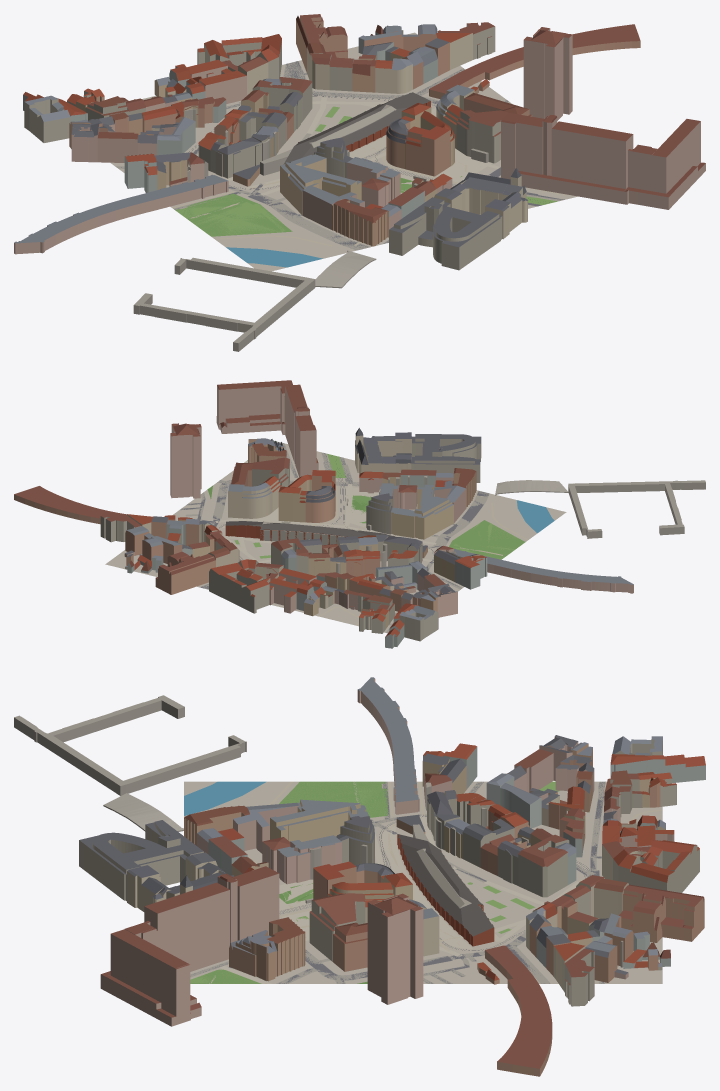
The model's file is mitte.glb.
The picture shows the model from 3 angles, top to bottom: view 1: azimuth 30°, elevation 25°; view 2: azimuth 150°, elevation 25°; view 3: azimuth 270°, elevation 25°; orthographic projection. The views are drawn at different scales.
Visible parts, largest first — view 1: buildings, ground, layer_green, layer_path, layer_curb, layer_road, layer_water; view 2: buildings, ground, layer_green, layer_path, layer_curb, layer_road, layer_water; view 3: buildings, ground, layer_path, layer_green, layer_curb, layer_road, layer_water.
Boxes of the visible parts, box(x1,y1,x2,y2) form: buildings: box(14, 14, 705, 351); ground: box(110, 32, 576, 271); layer_green: box(175, 106, 557, 236); layer_path: box(149, 73, 577, 246); layer_curb: box(115, 61, 563, 250); layer_road: box(123, 61, 564, 248); layer_water: box(226, 247, 322, 267); buildings: box(14, 380, 705, 648); ground: box(105, 441, 566, 632); layer_green: box(207, 441, 525, 559); layer_path: box(211, 461, 528, 625); layer_curb: box(138, 442, 489, 633); layer_road: box(139, 444, 488, 624); layer_water: box(517, 500, 554, 533); buildings: box(14, 677, 705, 1076); ground: box(184, 781, 662, 983); layer_path: box(209, 781, 662, 983); layer_green: box(190, 781, 559, 983); layer_curb: box(190, 781, 618, 983); layer_road: box(193, 782, 604, 983); layer_water: box(184, 781, 266, 815).
Size of the model in its own units: 690 by 78.87 by 521.
